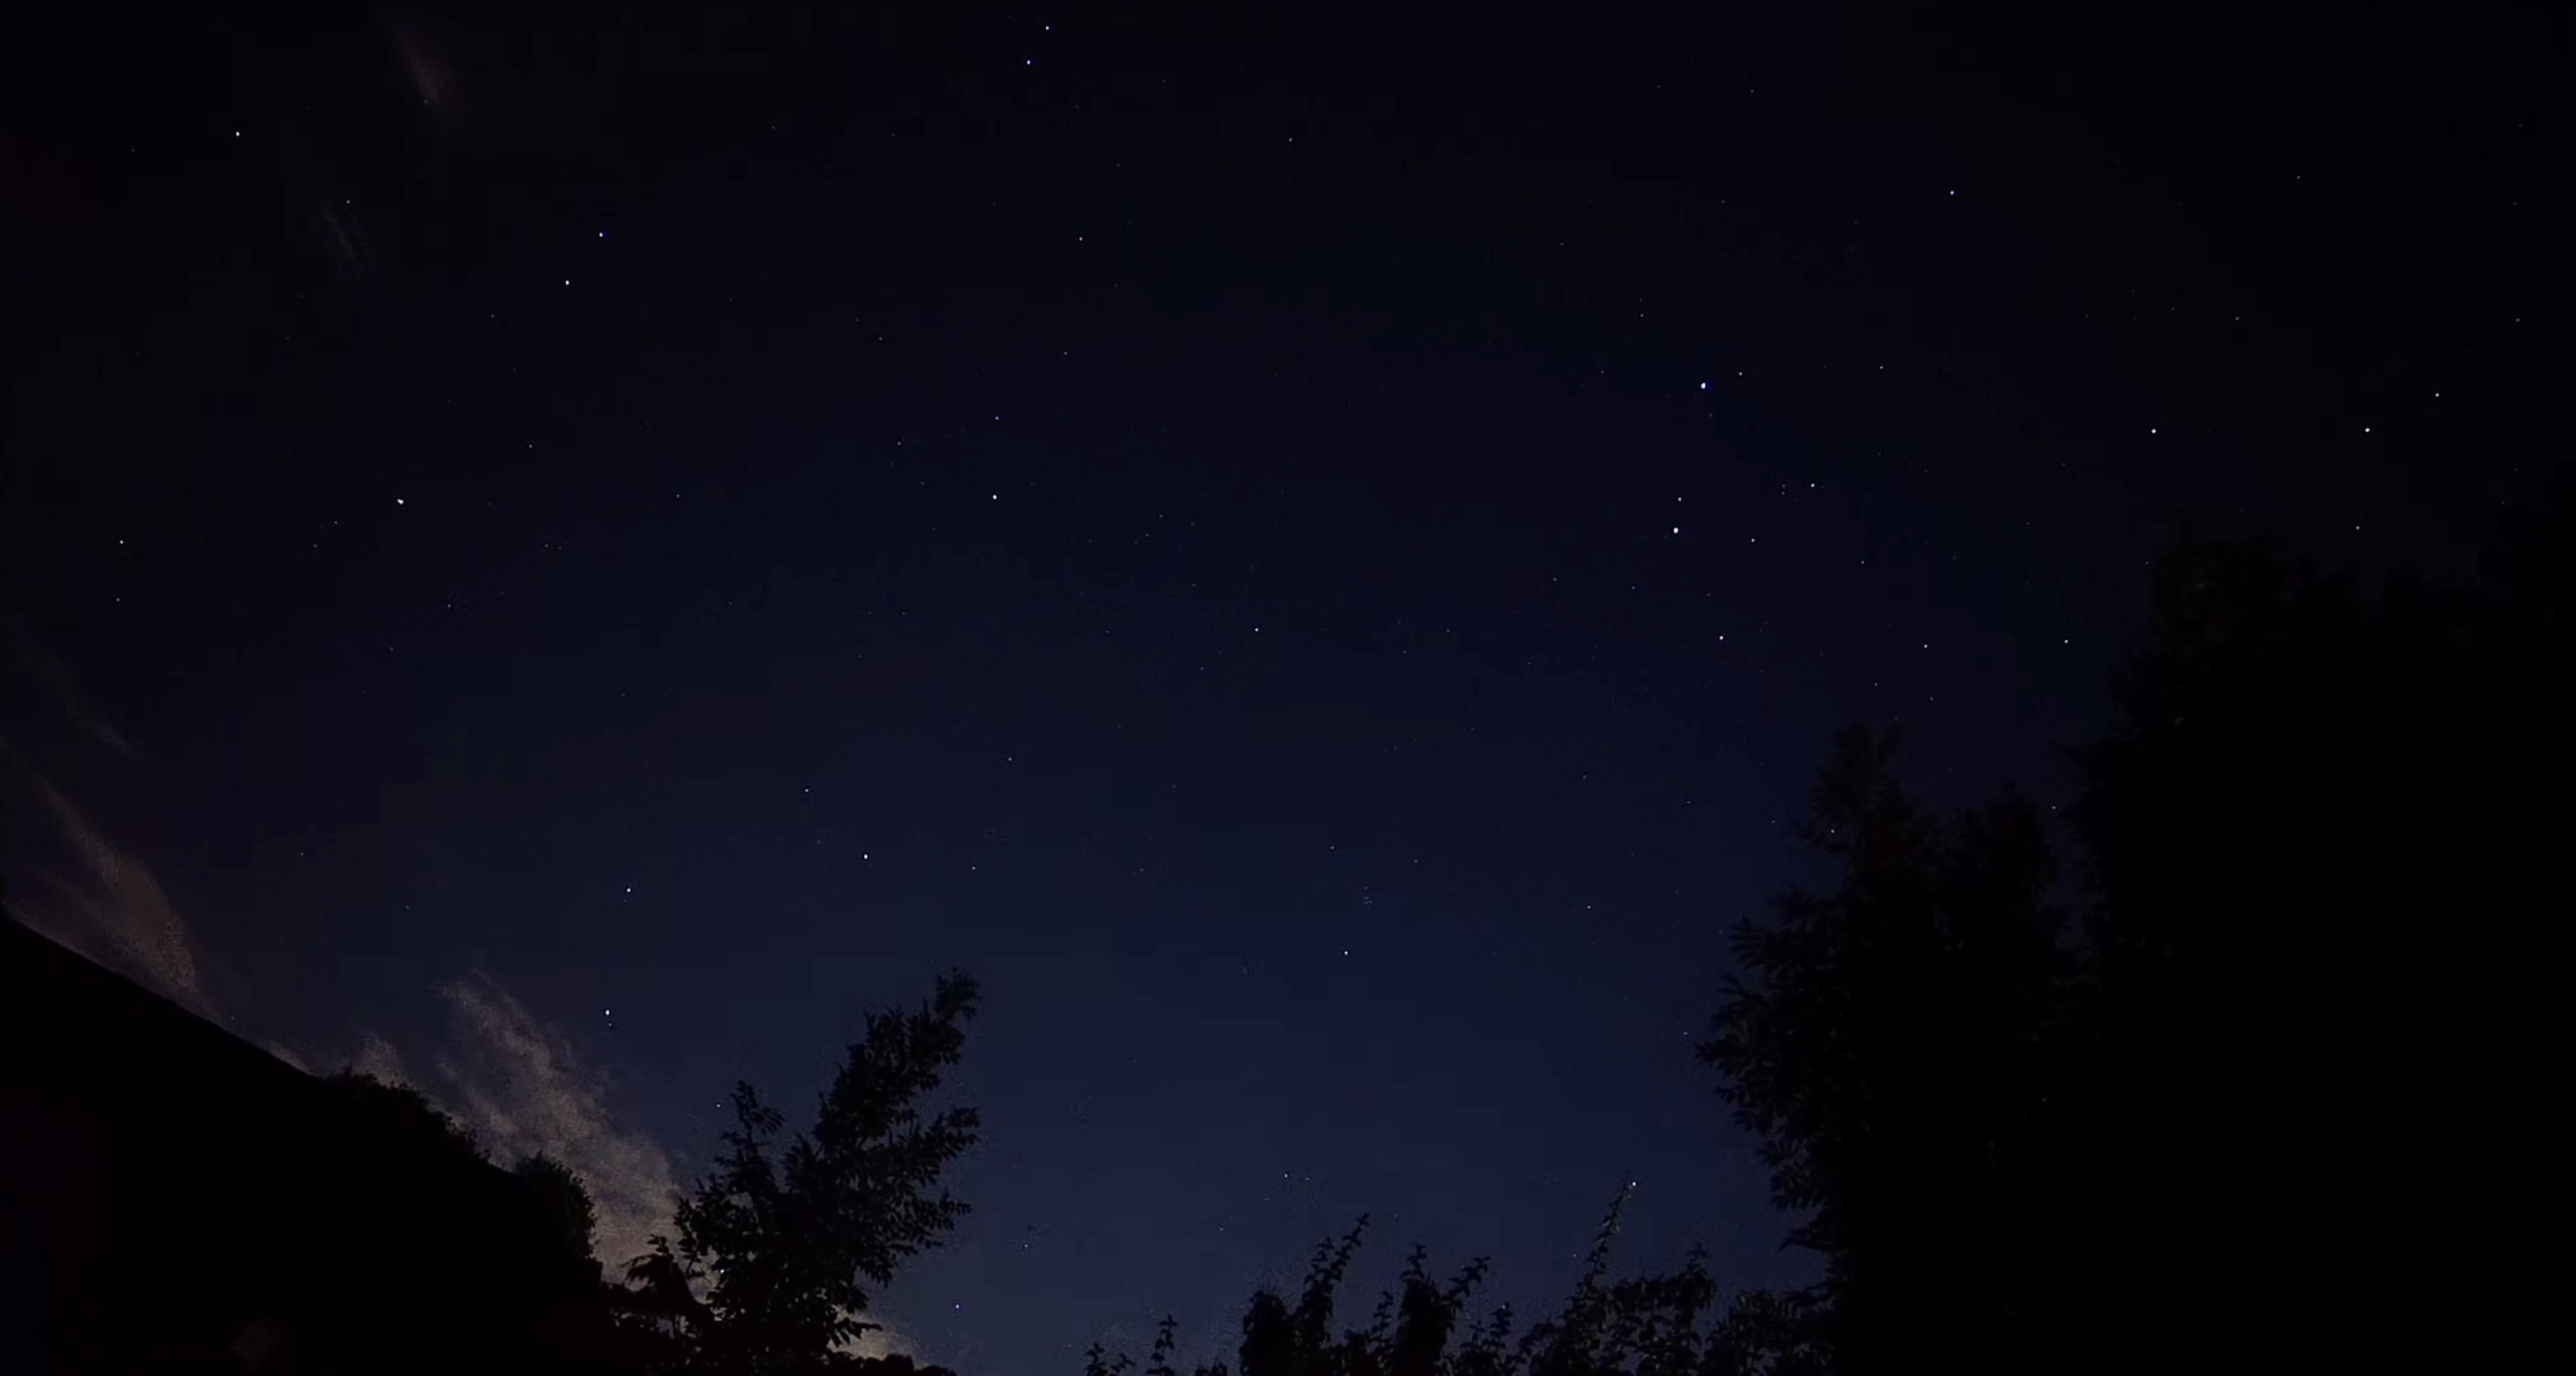Plane: (382, 485, 426, 521)
